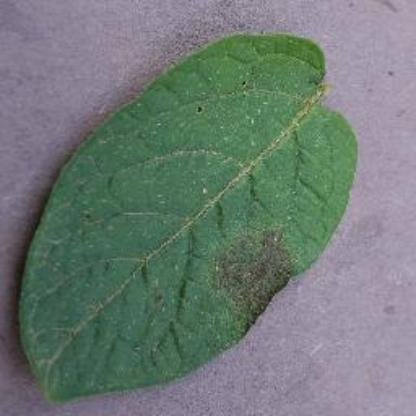Late-Blight: (16, 30, 362, 404)
